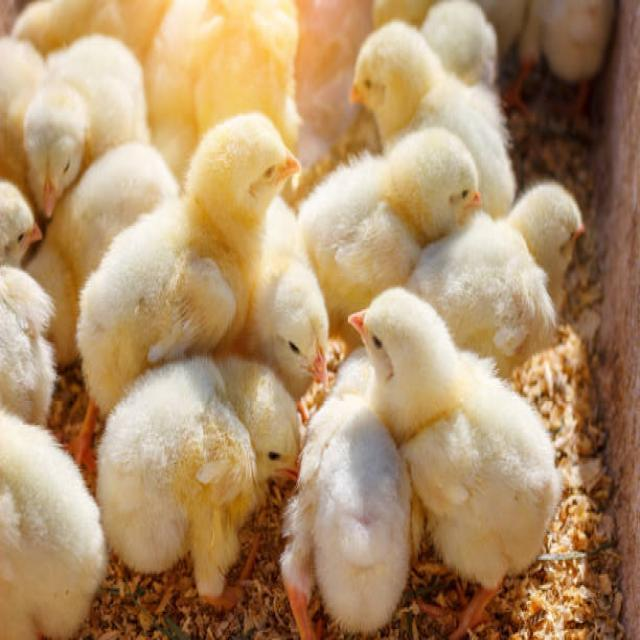Healthy: (343, 282, 563, 590), (65, 107, 303, 389)
